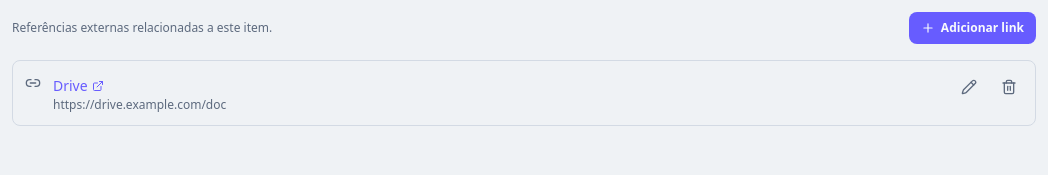
ItemLinksArea › remove link após confirmação
Click the button named "Remover link": (1009, 87) [995, 73, 1023, 101]
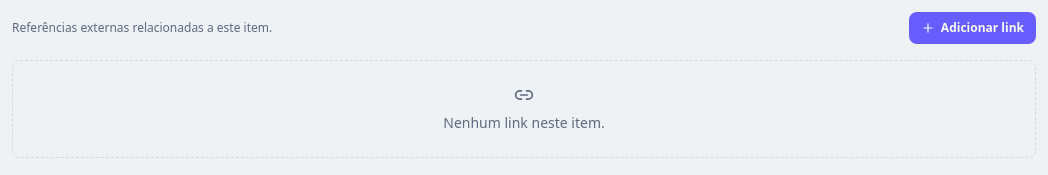
expect the text "Nenhum link neste item." is shown: met, box [443, 113, 605, 133]
